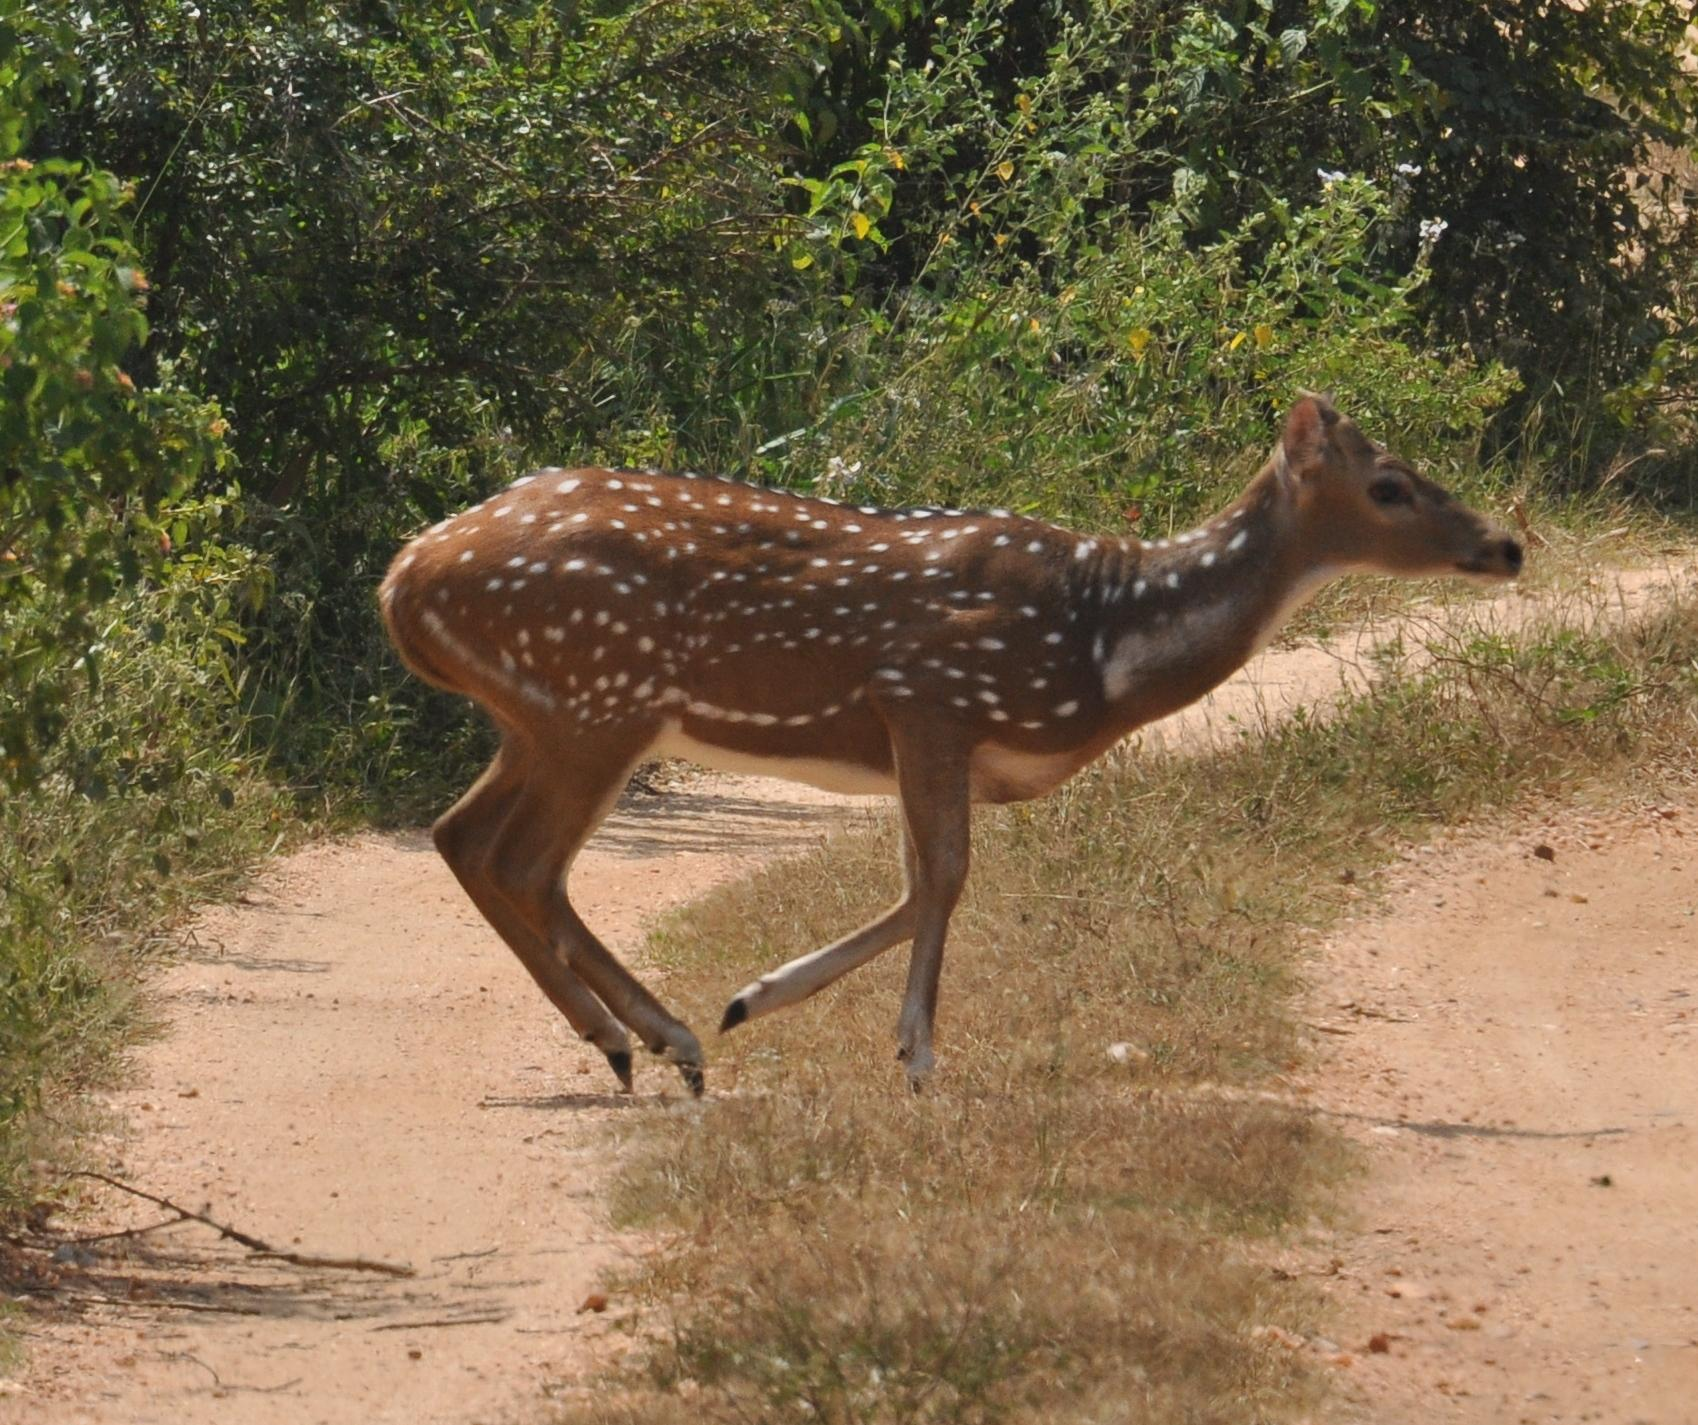Deer: (382, 393, 1523, 1096)
